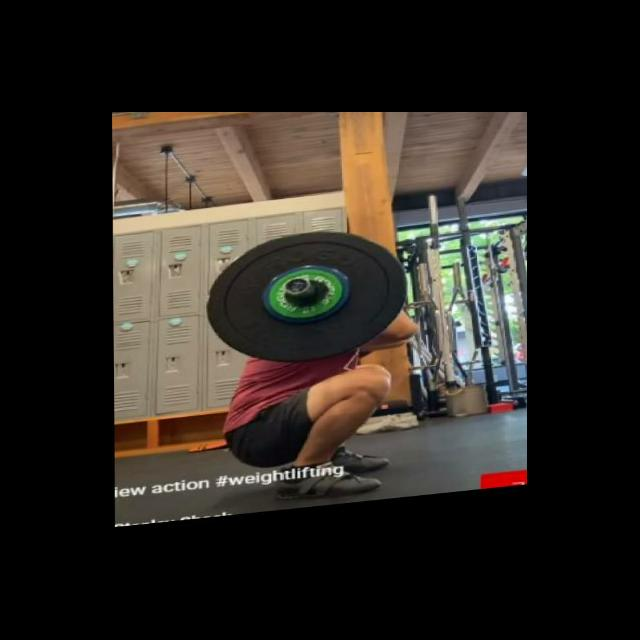barbell: (199, 224, 413, 377)
